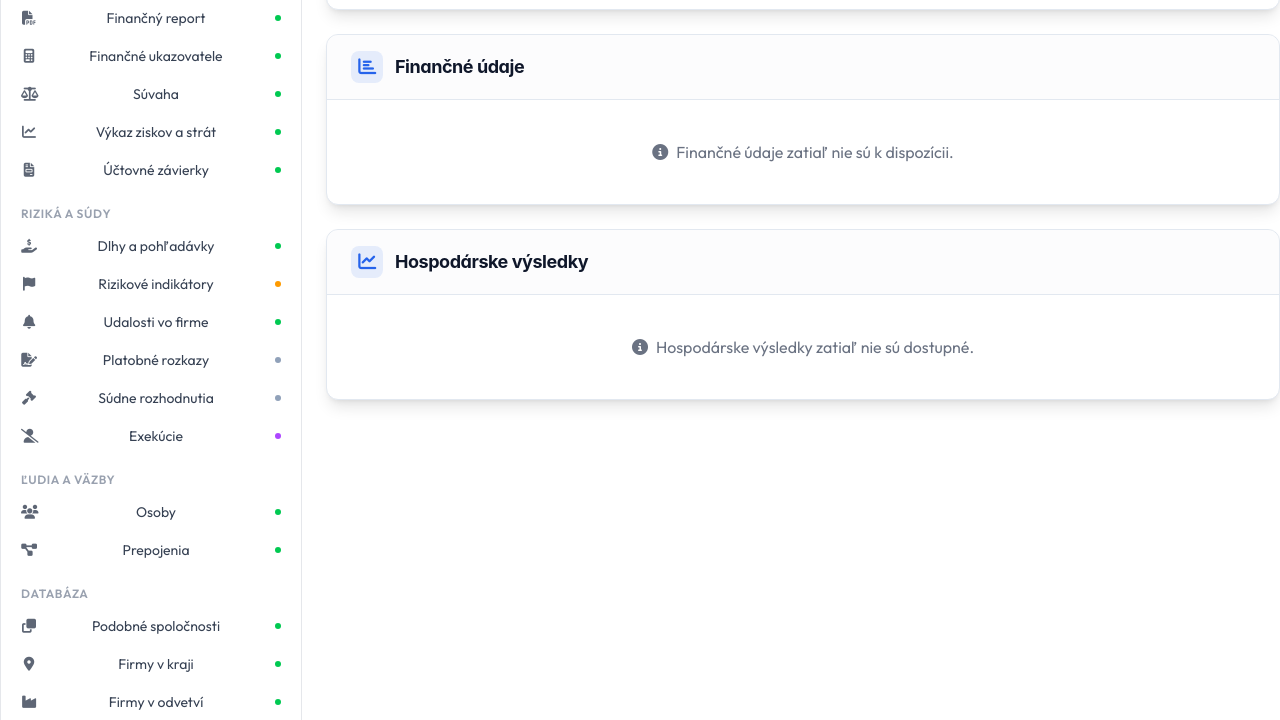
Test case: CompanyDetail › answers a tab with no body by stating why, not with a blank panel
(page scrolled)
Step 1. Click the button "Platobné rozkazy" → click(151, 360), box [9,342,293,378]
(page scrolled)
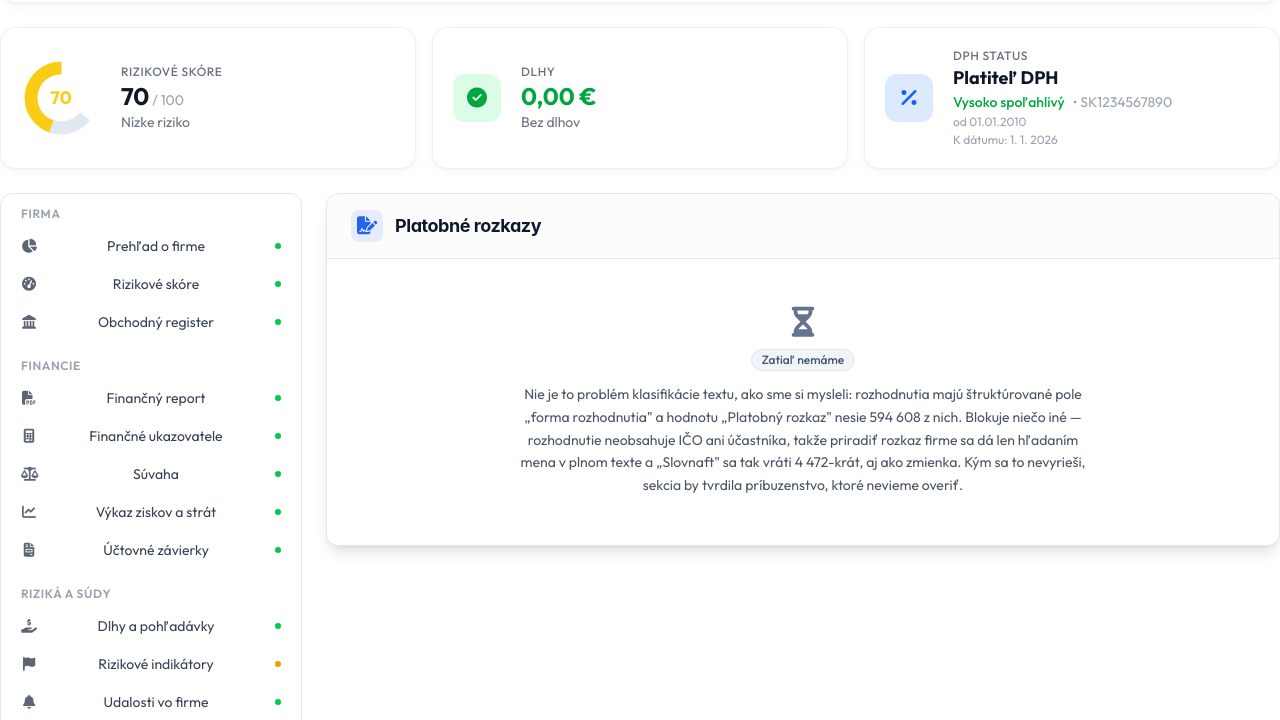
Result: the text "Nie je to problém klasifikácie textu, ako sme si mysleli: rozhodnutia majú štruktúrované pole „forma rozhodnutia\" a hodn" is shown at [520,385,1085,494]
Result: the text "Zatiaľ nemáme" is shown at [751,349,855,371]
